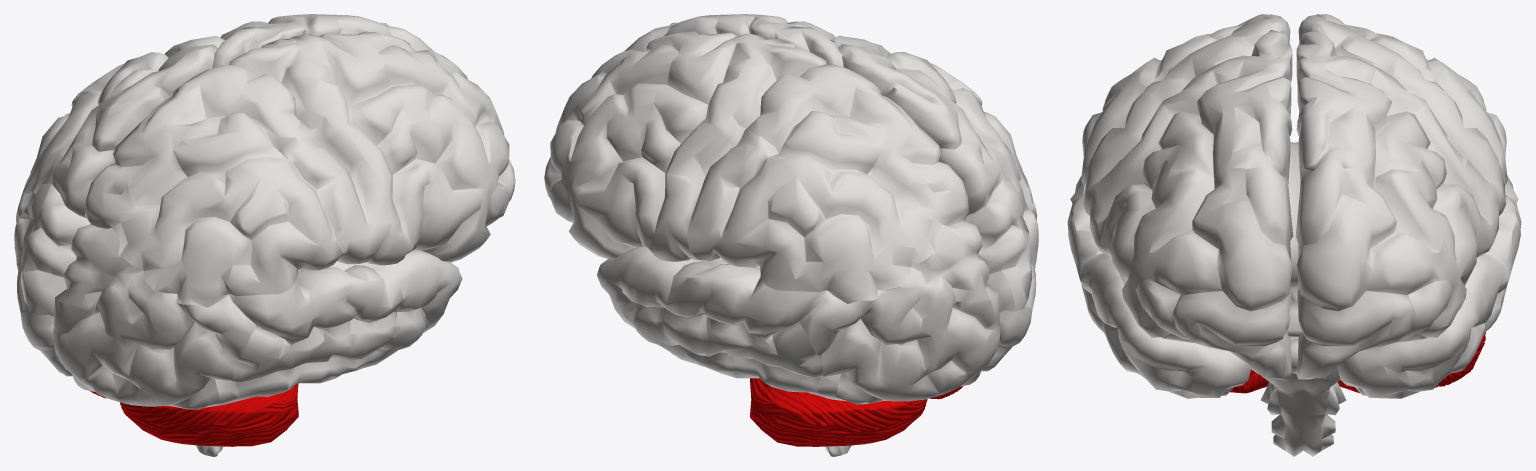
3 renders of one model, left to right at view 1: azimuth 30°, elevation 25°; view 2: azimuth 150°, elevation 25°; view 3: azimuth 270°, elevation 25°, orthographic. The views are drawn at different scales.
Parts seen in each view (by area): view 1: pariet, frontal, occipit, temp, cereb1; view 2: pariet, frontal, occipit, temp, cereb1; view 3: frontal, temp, pariet, stem, corpus, cereb1.
Part boxes in pixels (x1,y1,x2,y2): pariet: [22, 36, 370, 307]; frontal: [212, 14, 515, 265]; occipit: [14, 183, 256, 409]; temp: [205, 250, 462, 407]; cereb1: [90, 383, 298, 446]; pariet: [687, 35, 1030, 303]; frontal: [544, 14, 843, 261]; occipit: [799, 181, 1038, 404]; temp: [597, 246, 846, 401]; cereb1: [750, 378, 963, 446]; frontal: [1083, 30, 1505, 379]; temp: [1067, 176, 1521, 398]; pariet: [1081, 14, 1507, 203]; stem: [1251, 287, 1346, 456]; corpus: [1288, 142, 1300, 287]; cereb1: [1230, 332, 1485, 393].
Bounding box in the file's own units: 0.1631 × 0.1341 × 0.1427.
